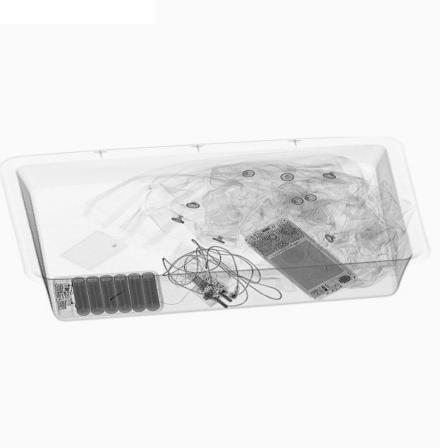Powerbank: (54, 269, 165, 319)
